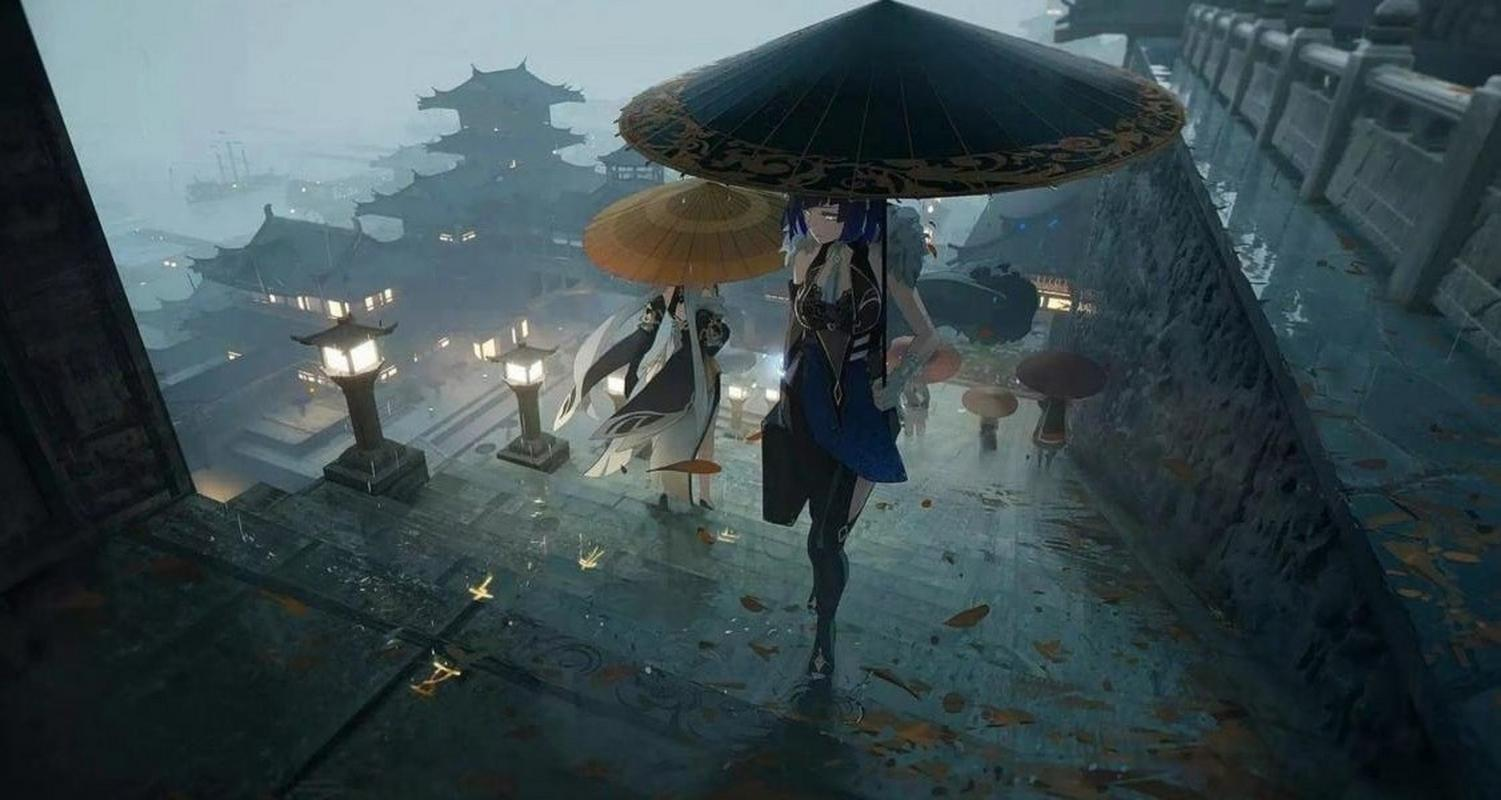夜兰: (745, 174, 935, 686)
